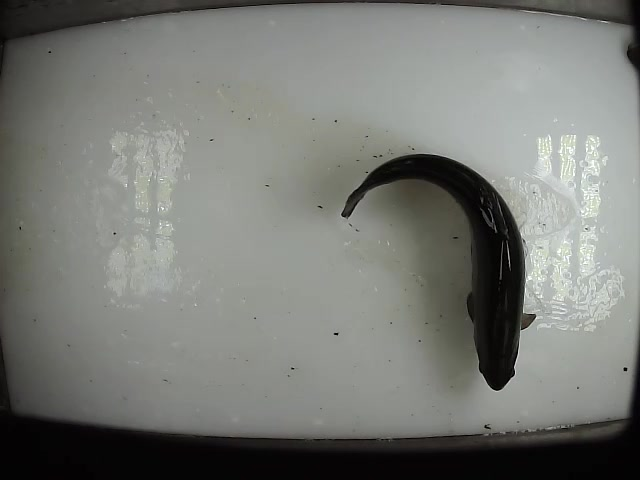fish: (340, 150, 535, 392)
